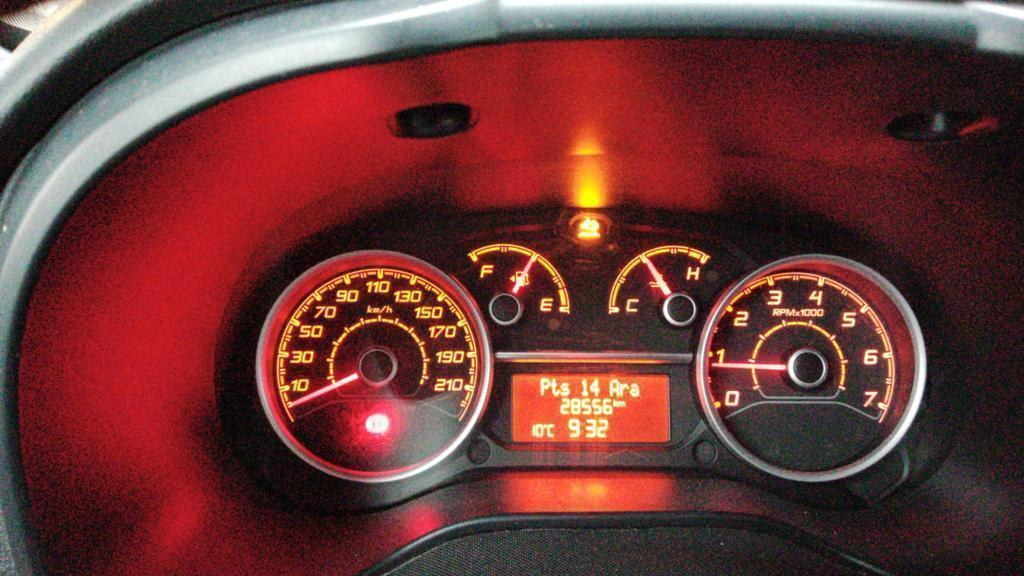0: (535, 423, 543, 438)
1: (580, 378, 588, 396), (532, 423, 535, 439)
2: (597, 419, 608, 438), (560, 398, 569, 415)
3: (585, 418, 596, 438)
4: (589, 377, 601, 395)
5: (581, 397, 591, 415), (591, 398, 601, 415)
6: (602, 398, 612, 414)
8: (570, 397, 580, 415)
9: (567, 417, 580, 439)
X: (550, 377, 560, 397), (540, 378, 550, 396), (618, 381, 630, 396), (559, 381, 570, 396), (630, 383, 640, 399), (609, 379, 618, 396), (547, 422, 556, 437), (612, 398, 618, 407), (618, 401, 625, 408)
odometer: (509, 370, 674, 446)
